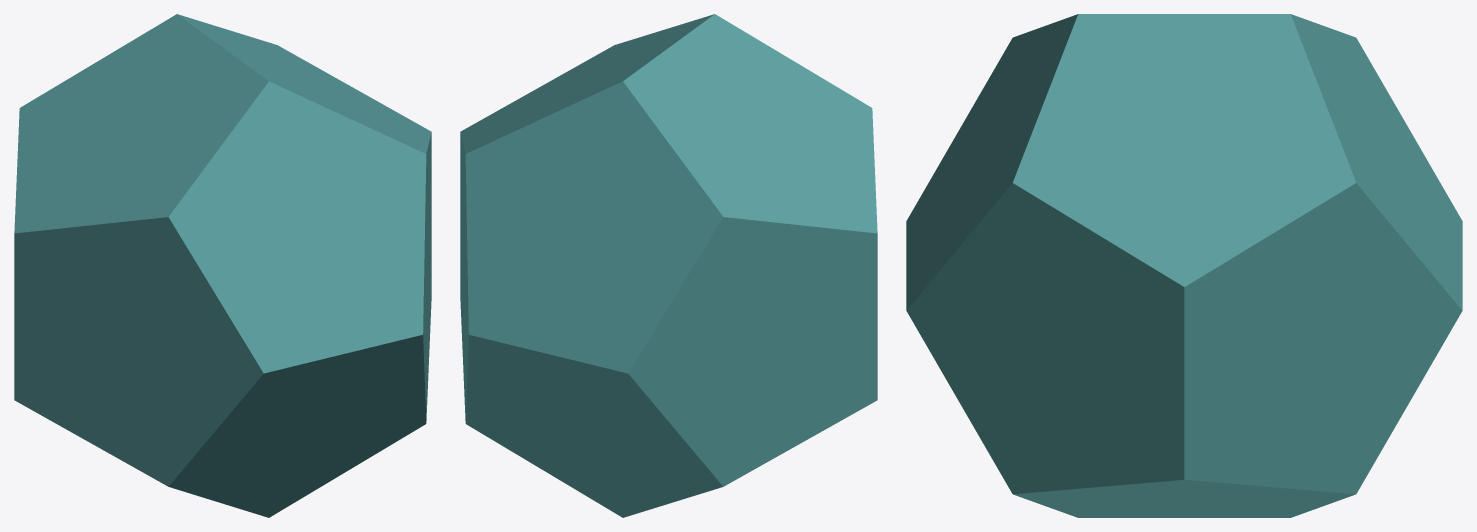
The model's file is 4.Dodecaedro.gltf.
3 views of the same model, side by side, from view 1: azimuth 30°, elevation 25°; view 2: azimuth 150°, elevation 25°; view 3: azimuth 270°, elevation 25° (orthographic). The views are drawn at different scales.
Visible parts, largest first — view 1: Solid; view 2: Solid; view 3: Solid.
Boxes of the visible parts, x1=… form: Solid: x1=14, y1=14, x2=431, y2=517; Solid: x1=460, y1=14, x2=877, y2=517; Solid: x1=906, y1=14, x2=1462, y2=517.
Size of the model in its own units: 1.87 by 1.87 by 1.87.
